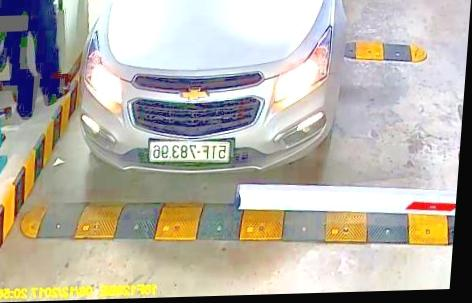License_Plate: (146, 138, 232, 165)
